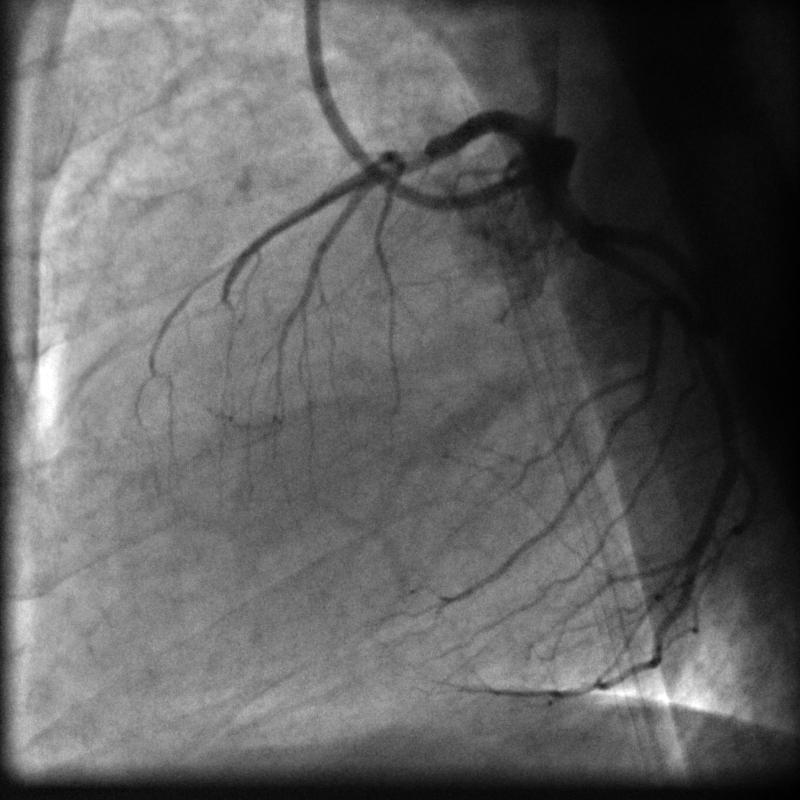Stenosis: (381, 142, 438, 178)
